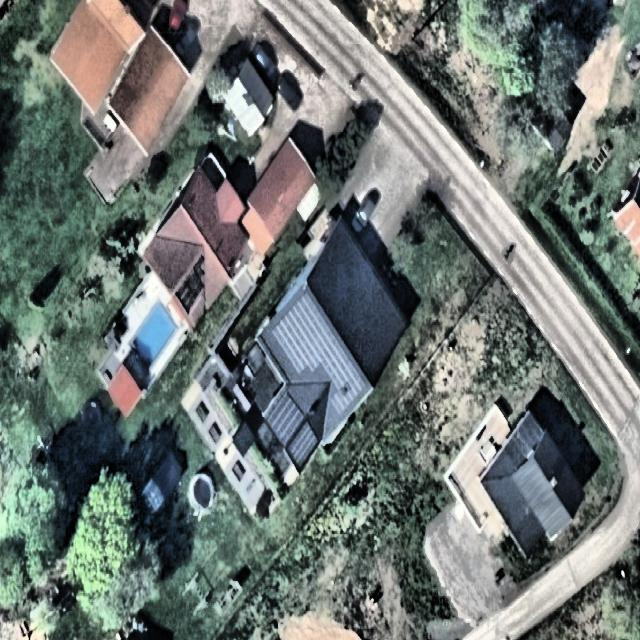roof_pv: (276, 294, 322, 372), (318, 318, 350, 386), (270, 392, 301, 442), (290, 421, 322, 469), (329, 388, 352, 421), (350, 362, 366, 402)
